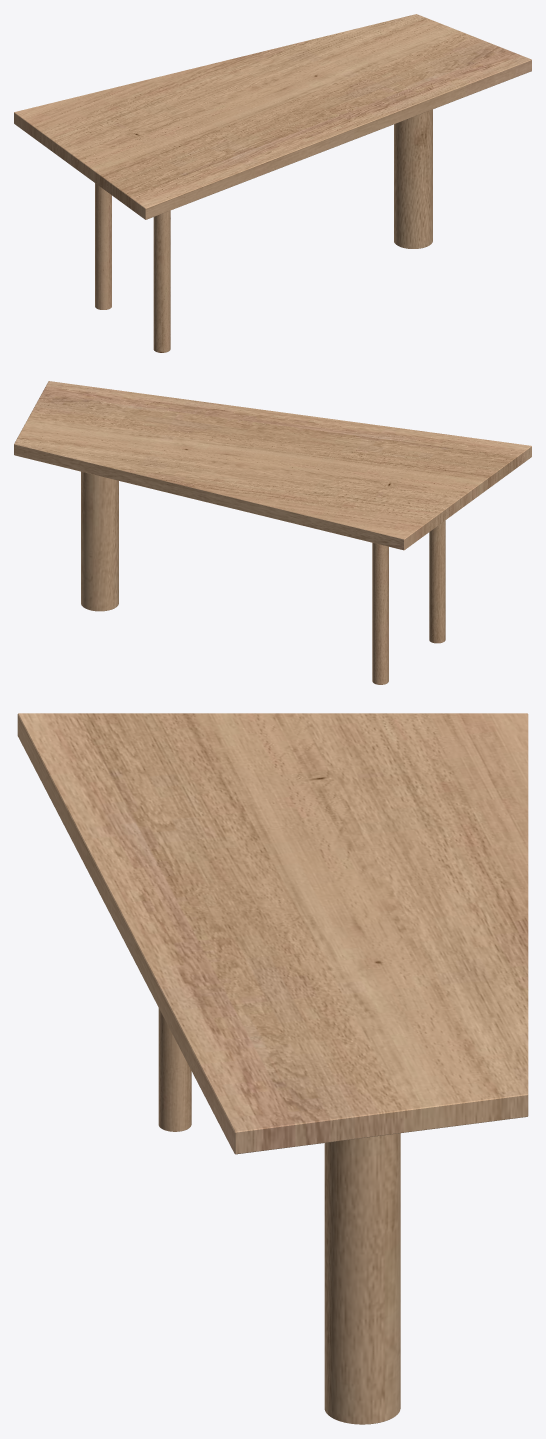
The model's file is Areti_Trapez_Table.dae.
The picture shows the model from 3 angles, top to bottom: view 1: azimuth 30°, elevation 25°; view 2: azimuth 150°, elevation 25°; view 3: azimuth 270°, elevation 25°; orthographic projection. The views are drawn at different scales.
Visible parts, largest first — view 1: _3DGeom_1_Defintion (×7); view 2: _3DGeom_1_Defintion (×7); view 3: _3DGeom_1_Defintion (×6).
Boxes of the visible parts, x1,y1,x2,y2 form: _3DGeom_1_Defintion (×7): (14, 14, 531, 352); _3DGeom_1_Defintion (×7): (14, 381, 531, 684); _3DGeom_1_Defintion (×6): (17, 713, 527, 1424).
Bounding box in the file's own units: 77.04 × 39.72 × 30.71.
Materials: 1 (1 with a texture image).
